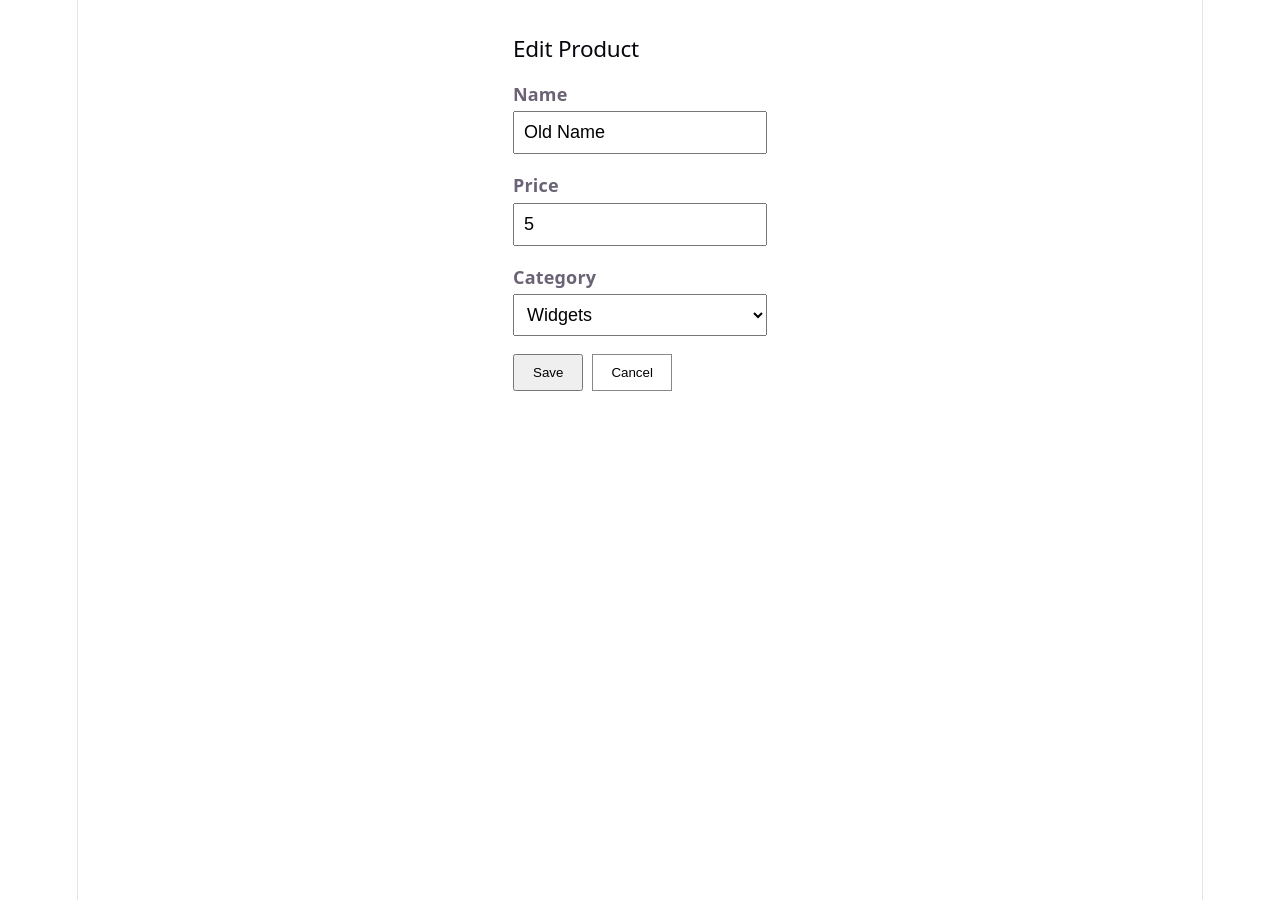
Test: ProductForm (edit mode) › shows a visible form-level error on a 400 CategoryNotFound failure
Check: the dropdown labelled "Category" is enabled, box [513,294,767,336]
Click the button "Save" at (548, 373), box [513,354,583,391]
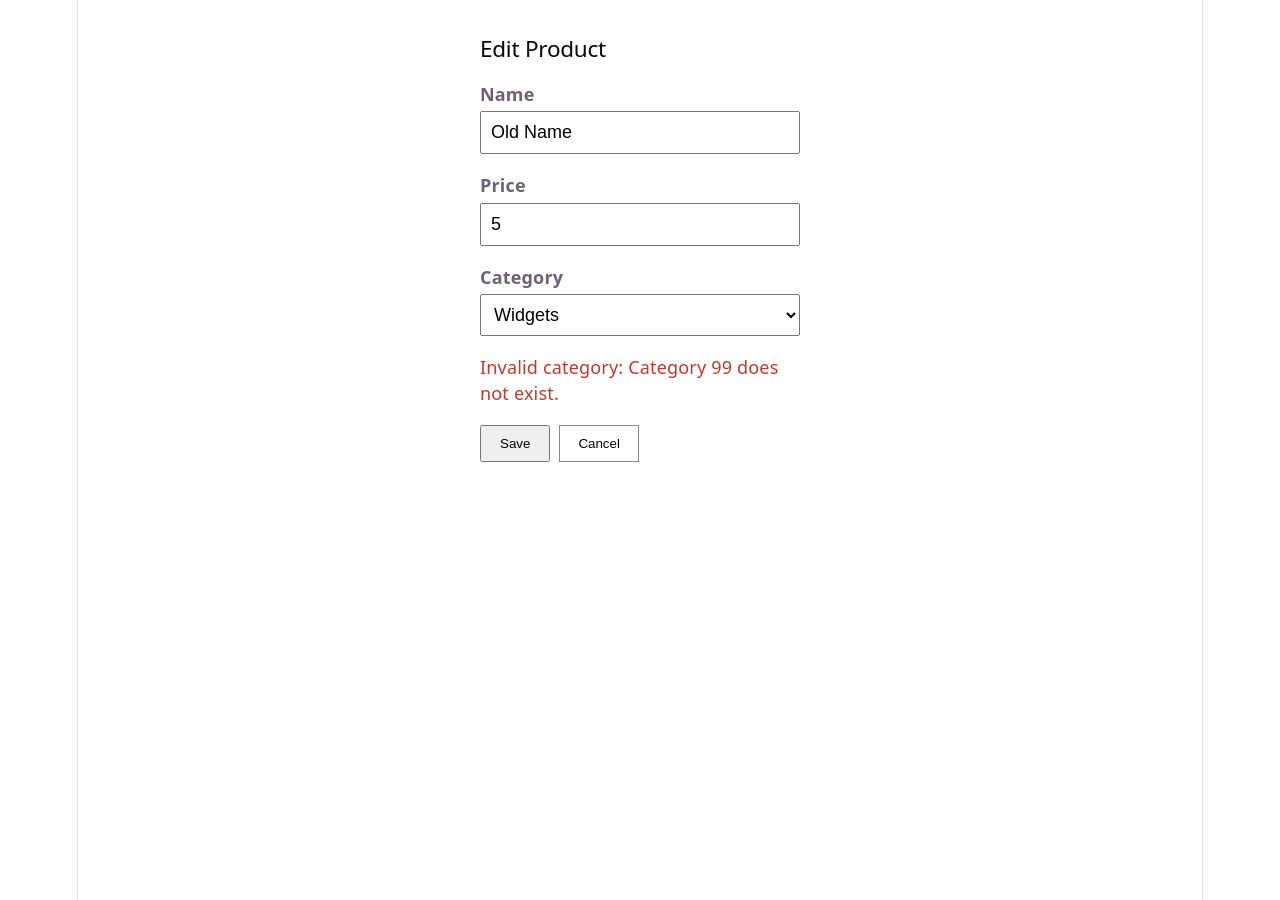
Check: the message reads "Invalid category: Category 99 does not exist.", box [480,355,778,405]
